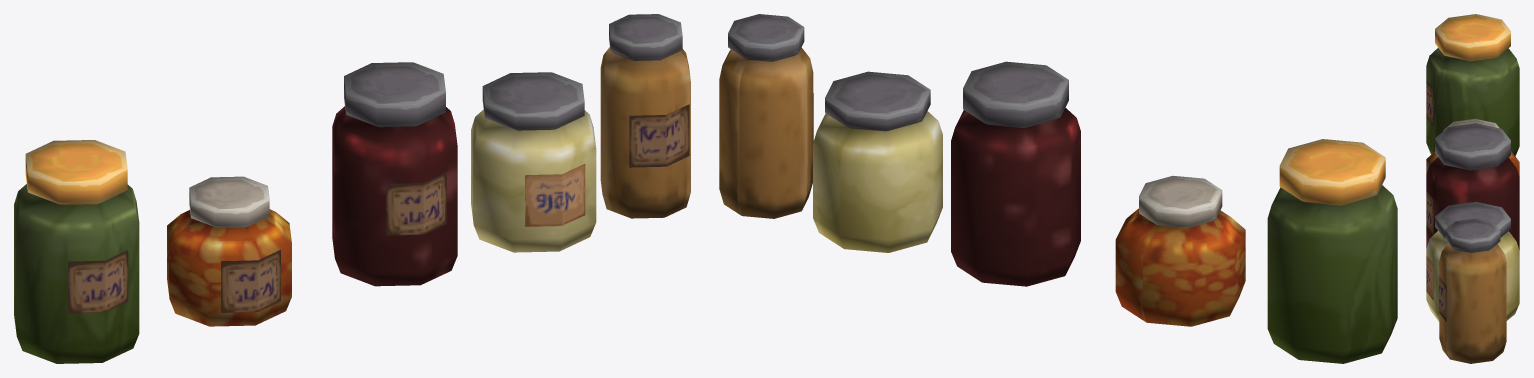
The model's file is Jar_Group1 1.fbx.
3 views of the same model, side by side, from view 1: azimuth 30°, elevation 25°; view 2: azimuth 150°, elevation 25°; view 3: azimuth 270°, elevation 25° (orthographic). The views are drawn at different scales.
Parts seen in each view (by area): view 1: Jar_Group1; view 2: Jar_Group1; view 3: Jar_Group1.
Boxes of the visible parts, box(x1,y1,x2,y2) form: Jar_Group1: box(14, 14, 690, 363); Jar_Group1: box(719, 14, 1397, 363); Jar_Group1: box(1426, 14, 1519, 363).
Size of the model in its own units: 80.01 by 20.47 by 13.77.
1 material, 1 textured.
